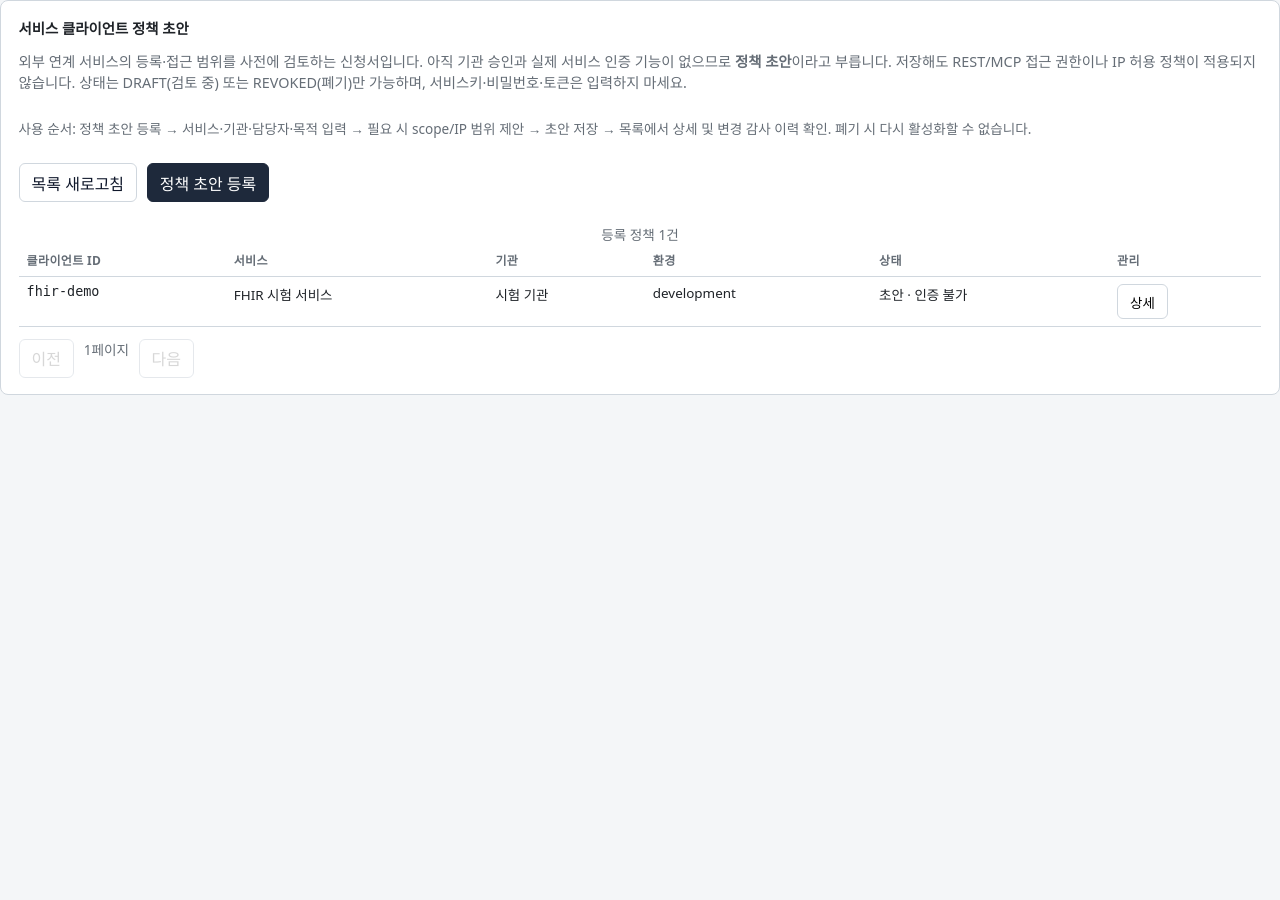
Test case: M5-S1B service client draft administration › requires a deliberate confirmation for irrevocable revoke
Expected: the table is shown, [19, 224, 1261, 327]
Click the button with aria-label "fhir-demo 상세".
click(1142, 302)  # box [1117, 284, 1168, 319]
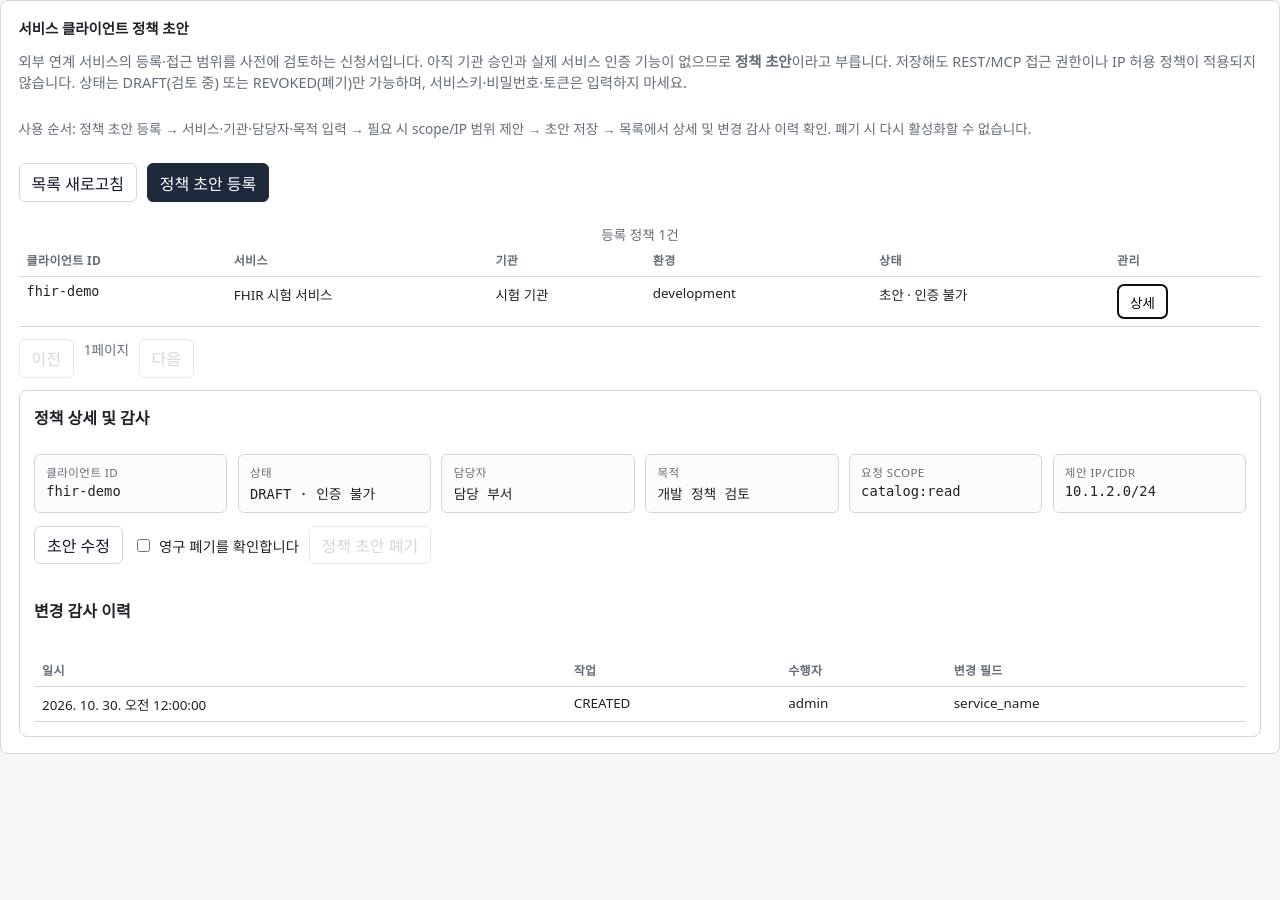
Result: the text "DRAFT · 인증 불가" is shown at [250, 486, 375, 502]
Result: the button "정책 초안 폐기" is disabled at [308, 526, 431, 564]
Click the checkbox labelled "영구 폐기를 확인합니다".
click(143, 545)  # box [137, 538, 150, 552]
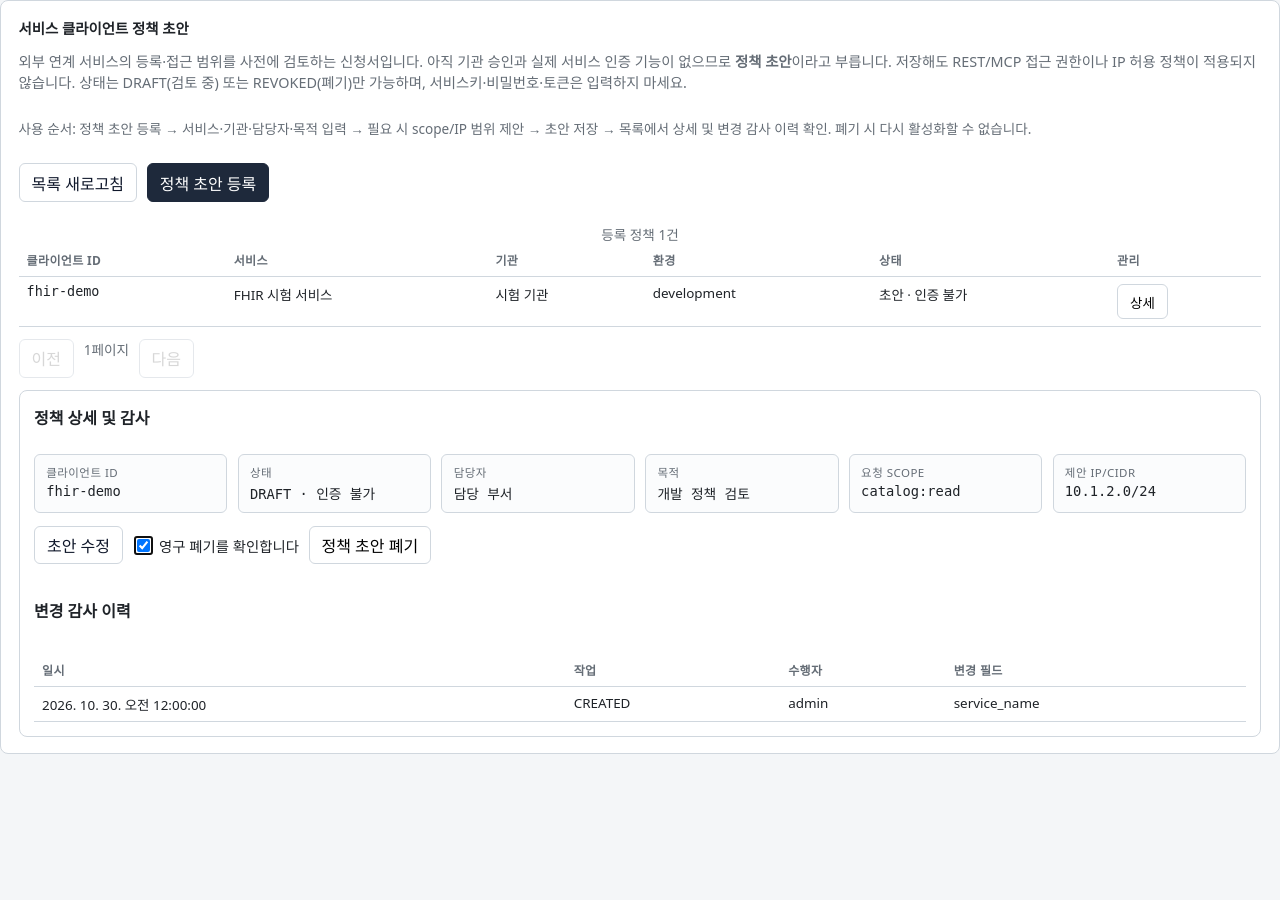
Click the button "정책 초안 폐기".
click(370, 545)  # box [308, 526, 431, 564]
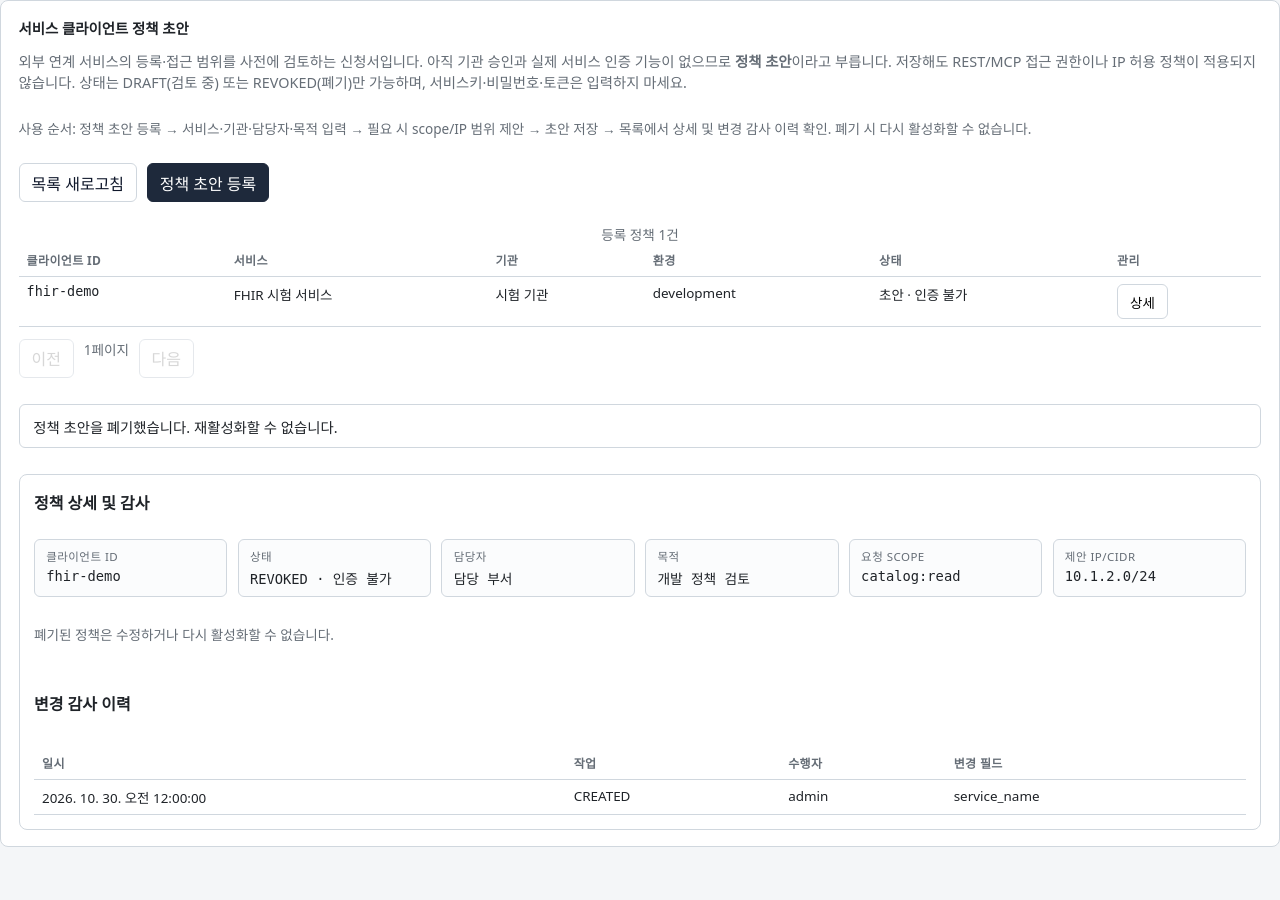
Result: the text "REVOKED · 인증 불가" is shown at [250, 571, 392, 587]
Result: the button "초안 수정" is gone
